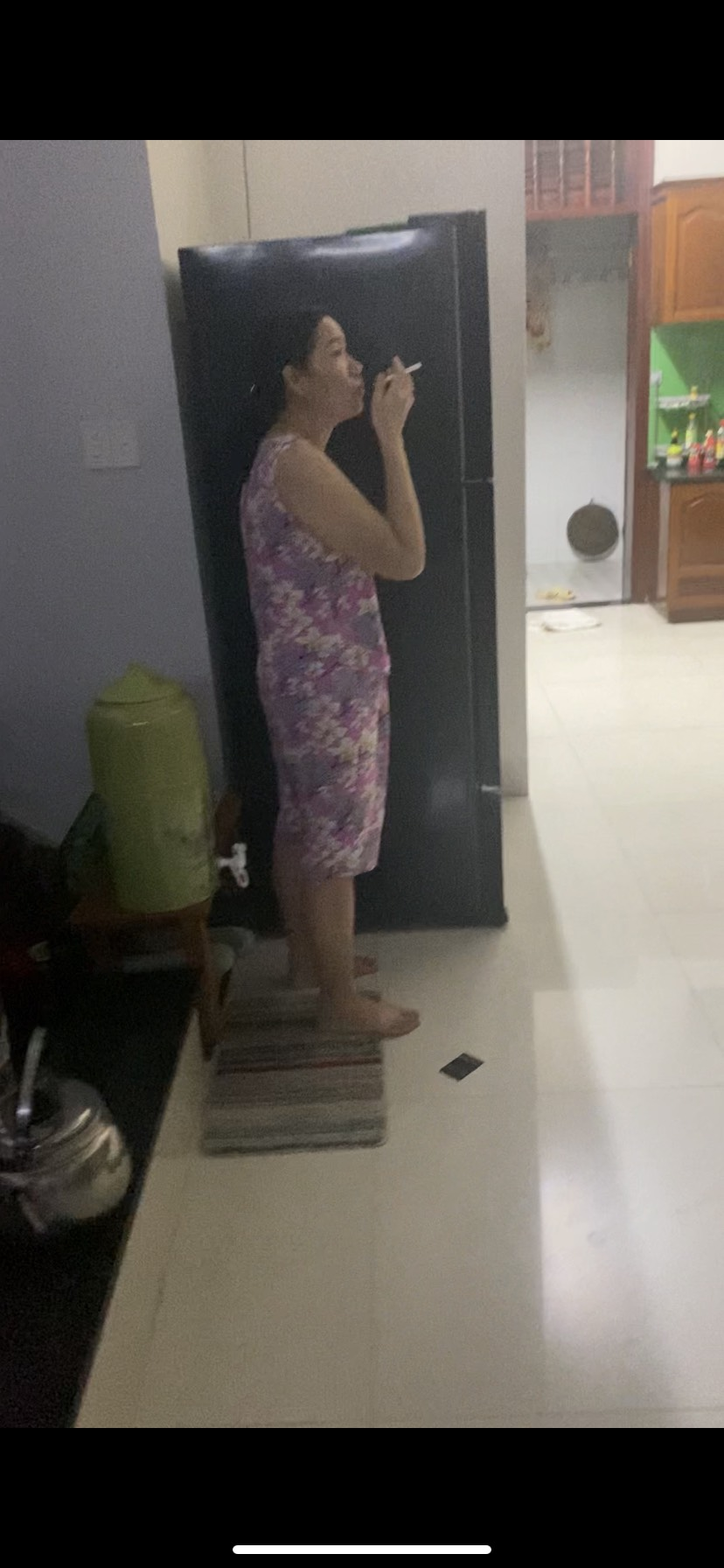cigarette: (405, 358, 428, 377)
person: (220, 258, 429, 1076)
